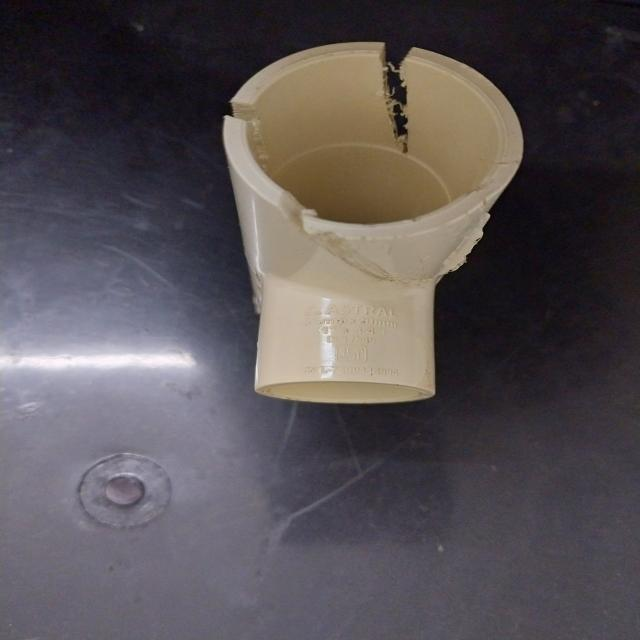Defective: (362, 48, 444, 175), (280, 201, 382, 298), (221, 94, 280, 148)
